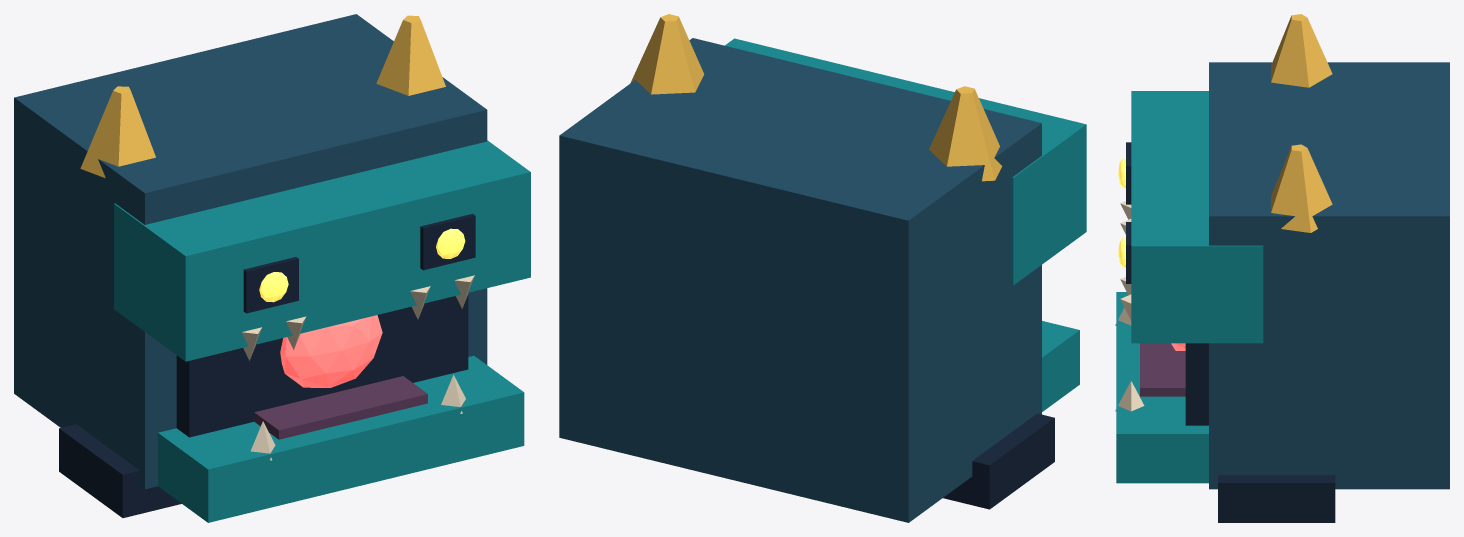
The model's file is chomp-boss.glb.
3 views of the same model, side by side, from view 1: azimuth 30°, elevation 25°; view 2: azimuth 150°, elevation 25°; view 3: azimuth 270°, elevation 25° (orthographic). The views are drawn at different scales.
Visible parts, largest first — view 1: Shell, Brow, Lower Jaw, Mouth Interior, Foot, Tongue, Core, Horn, Horn.001, Eye Socket, Eye Socket.001, Lit Eye (+1 smaller); view 2: Shell, Brow, Foot, Horn, Horn.001, Lower Jaw; view 3: Shell, Brow, Lower Jaw, Foot.001, Horn.001, Horn, Tongue, Mouth Interior, Lower Tooth.001.
Part boxes in pixels (x1=…): Shell: x1=14, y1=14, x2=487, y2=489; Brow: x1=114, y1=140, x2=530, y2=361; Lower Jaw: x1=158, y1=355, x2=524, y2=522; Mouth Interior: x1=176, y1=294, x2=468, y2=437; Foot: x1=59, y1=424, x2=181, y2=517; Tongue: x1=254, y1=376, x2=427, y2=439; Core: x1=280, y1=315, x2=382, y2=387; Horn: x1=80, y1=86, x2=155, y2=178; Horn.001: x1=376, y1=15, x2=445, y2=95; Eye Socket: x1=243, y1=257, x2=298, y2=313; Eye Socket.001: x1=420, y1=213, x2=475, y2=270; Lit Eye: x1=259, y1=272, x2=288, y2=302; Shell: x1=559, y1=38, x2=1041, y2=522; Brow: x1=725, y1=38, x2=1086, y2=285; Foot: x1=943, y1=413, x2=1054, y2=509; Horn: x1=929, y1=86, x2=1002, y2=181; Horn.001: x1=630, y1=14, x2=704, y2=94; Lower Jaw: x1=1042, y1=321, x2=1079, y2=411; Shell: x1=1209, y1=62, x2=1449, y2=489; Brow: x1=1131, y1=91, x2=1263, y2=343; Lower Jaw: x1=1116, y1=292, x2=1208, y2=483; Foot.001: x1=1218, y1=475, x2=1335, y2=522; Horn.001: x1=1271, y1=144, x2=1332, y2=232; Horn: x1=1271, y1=14, x2=1332, y2=87; Tongue: x1=1140, y1=343, x2=1185, y2=396; Mouth Interior: x1=1185, y1=343, x2=1208, y2=425; Lower Tooth.001: x1=1115, y1=381, x2=1144, y2=411.
Size of the model in its own units: 2.73 by 2.67 by 2.28.
